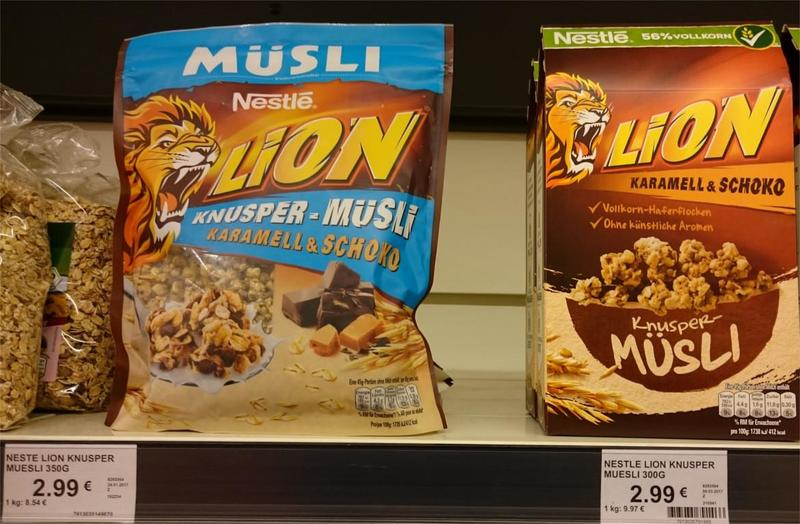cereals: (536, 27, 800, 440)
